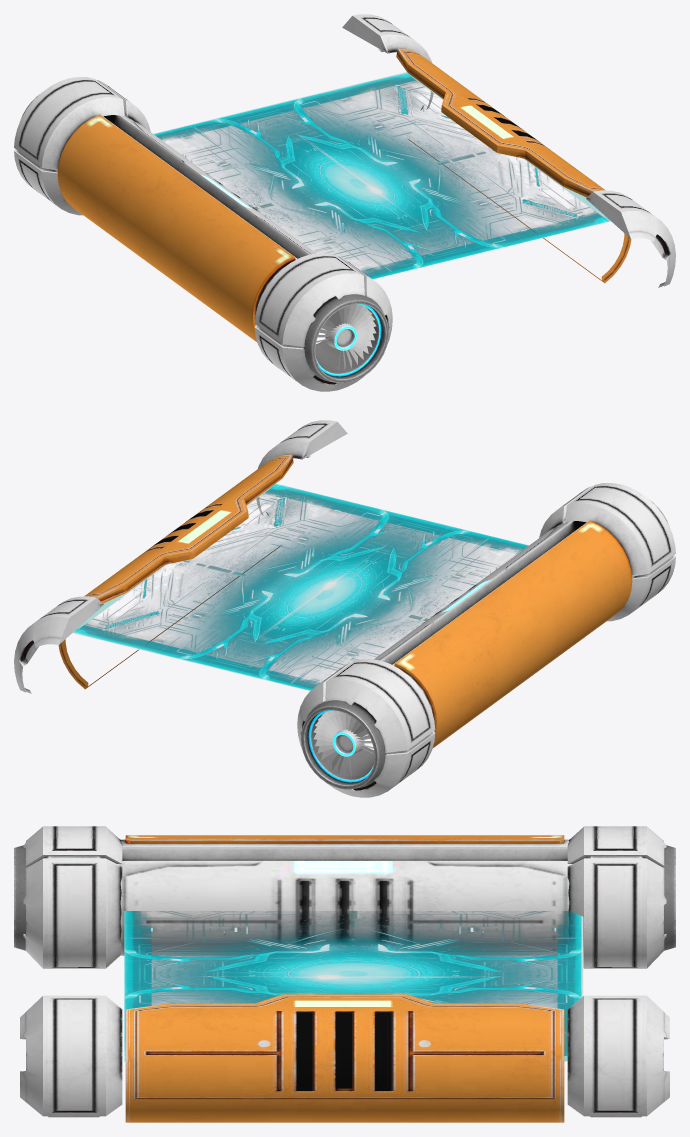
3 renders of one model, top to bottom at view 1: azimuth 30°, elevation 25°; view 2: azimuth 150°, elevation 25°; view 3: azimuth 270°, elevation 25°, orthographic. The views are drawn at different scales.
Parts seen in each view (by area): view 1: ZHOU_1, PIAN_2, ZHOU1_0; view 2: ZHOU_1, PIAN_2, ZHOU1_0; view 3: ZHOU_1, ZHOU1_0, PIAN_2.
Boxes of the visible parts, <box> form: ZHOU_1: <box>14,77,392,391</box>; PIAN_2: <box>153,72,610,279</box>; ZHOU1_0: <box>342,14,675,287</box>; ZHOU_1: <box>297,483,675,797</box>; PIAN_2: <box>72,483,528,690</box>; ZHOU1_0: <box>14,420,347,693</box>; ZHOU_1: <box>14,826,675,968</box>; ZHOU1_0: <box>20,994,669,1122</box>; PIAN_2: <box>124,911,583,1061</box>.
Bounding box in the file's own units: 2.95 × 0.827 × 3.82.
3 materials, 3 textured.
